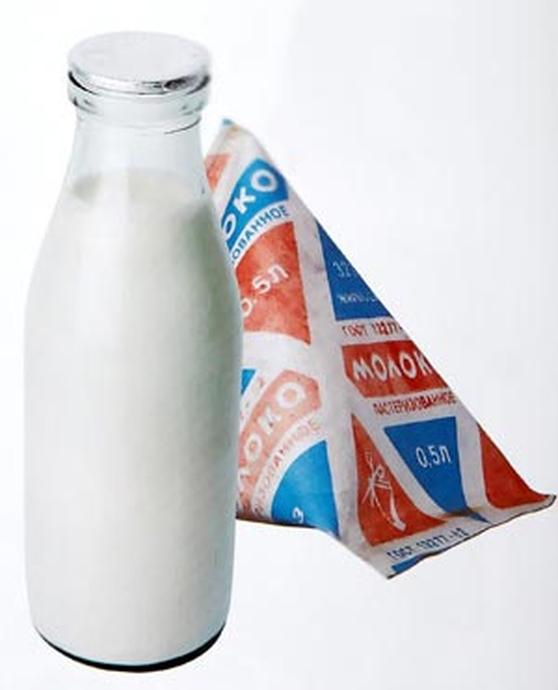milk: (23, 30, 242, 672)
